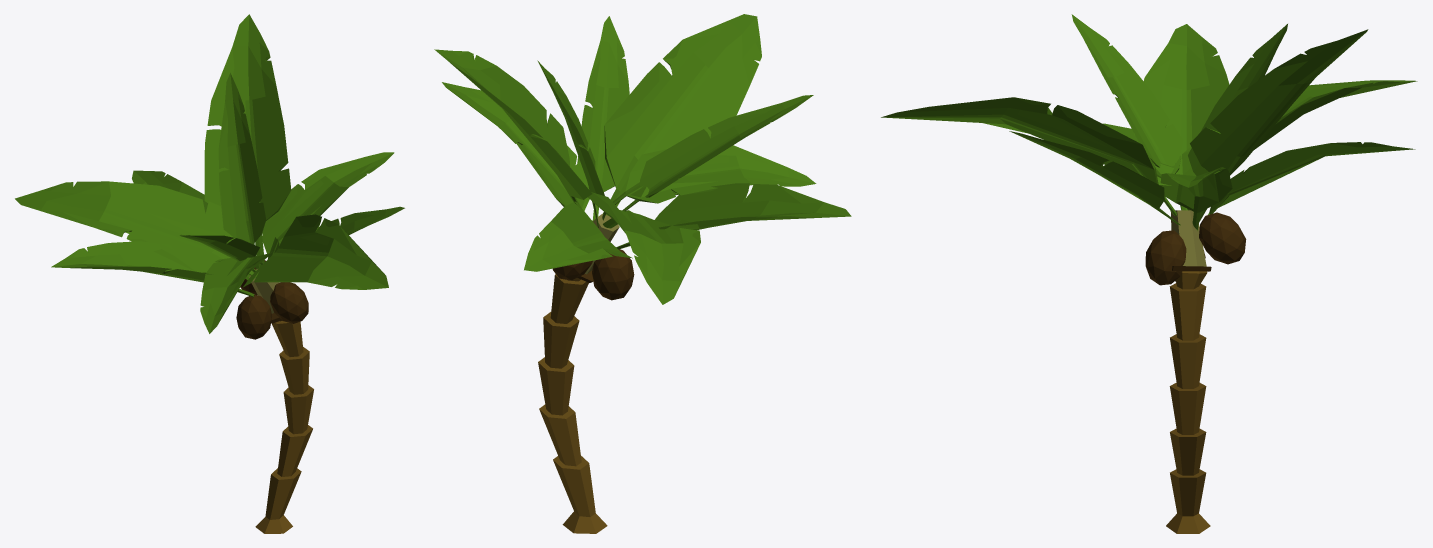
Rendered from moonbananatree.fbx.
3 views of the same model, side by side, from view 1: azimuth 30°, elevation 25°; view 2: azimuth 150°, elevation 25°; view 3: azimuth 270°, elevation 25° (orthographic). The views are drawn at different scales.
Parts seen in each view (by area): view 1: MoonBananaTree; view 2: MoonBananaTree; view 3: MoonBananaTree.
Boxes of the visible parts, x1,y1,x2,y2 form: MoonBananaTree: (15,14,404,533); MoonBananaTree: (434,14,851,533); MoonBananaTree: (881,14,1417,533).
Bounding box in the file's own units: 804 × 991 × 917.
